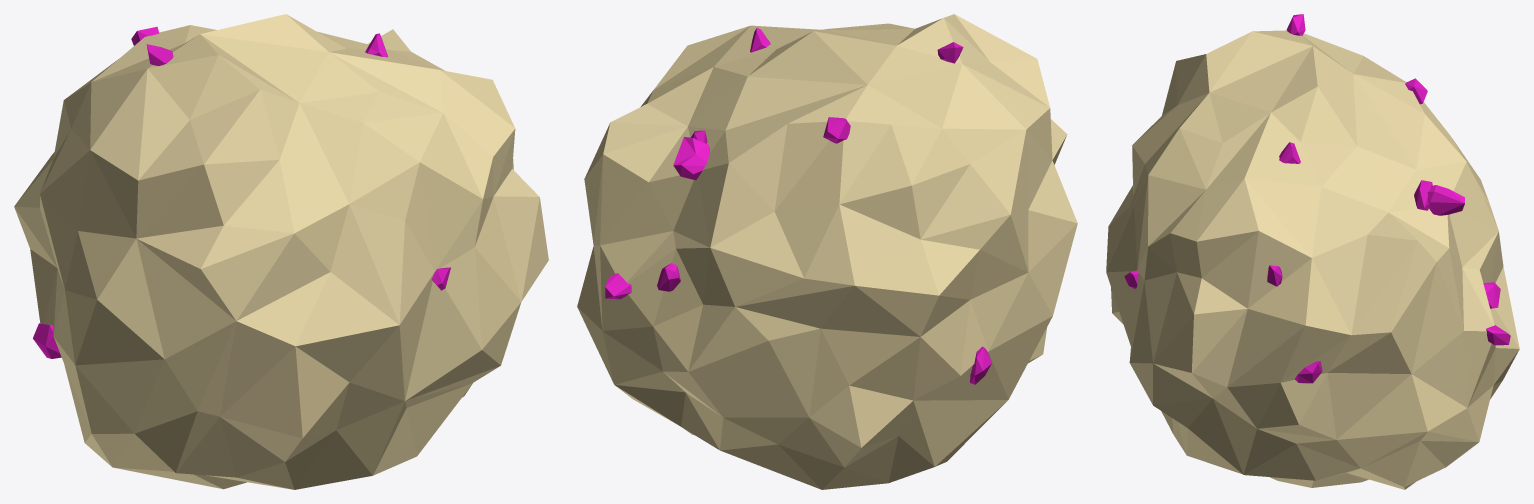
File: CrystalOre (3).fbx
3 views of the same model, side by side, from view 1: azimuth 30°, elevation 25°; view 2: azimuth 150°, elevation 25°; view 3: azimuth 270°, elevation 25° (orthographic). The views are drawn at different scales.
Parts seen in each view (by area): view 1: Asteroid287; view 2: Asteroid287; view 3: Asteroid287.
Part boxes in pixels (bbox=[...]): Asteroid287: bbox=[14, 14, 548, 489]; Asteroid287: bbox=[577, 14, 1077, 489]; Asteroid287: bbox=[1106, 14, 1519, 489].
Bounding box in the file's own units: 557 × 544 × 503.
